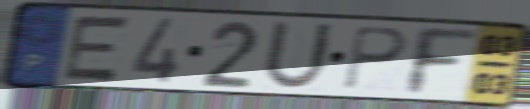2: (201, 17, 263, 91)
4: (131, 16, 184, 86)
E: (58, 13, 135, 84)
F: (405, 24, 480, 98)
P: (341, 24, 410, 92)
U: (259, 18, 337, 93)
